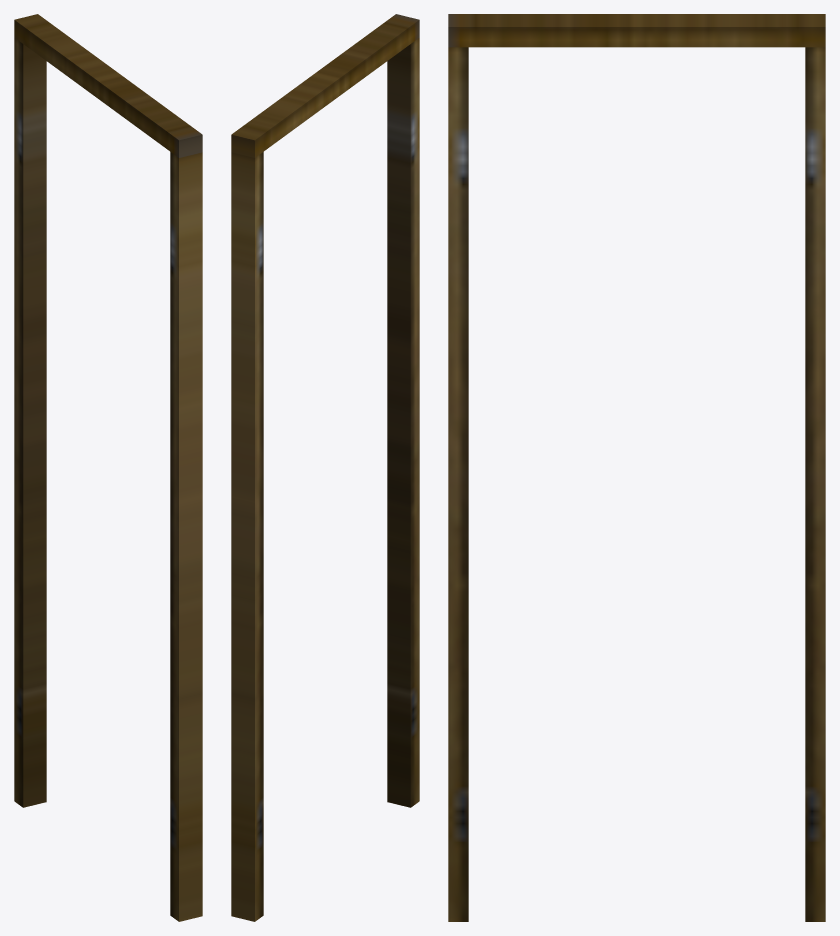
The model's file is Porta-Escola2.glb.
3 views of the same model, side by side, from view 1: azimuth 30°, elevation 25°; view 2: azimuth 150°, elevation 25°; view 3: azimuth 270°, elevation 25° (orthographic). The views are drawn at different scales.
Visible parts, largest first — view 1: Base-Porta; view 2: Base-Porta; view 3: Base-Porta.
Part boxes in pixels (x1,y1,x2,y2): Base-Porta: [14, 14, 202, 921]; Base-Porta: [231, 14, 419, 921]; Base-Porta: [448, 14, 825, 921].
Size of the model in its own units: 0.1787 by 5.66 by 2.17.
1 material, 1 textured.
